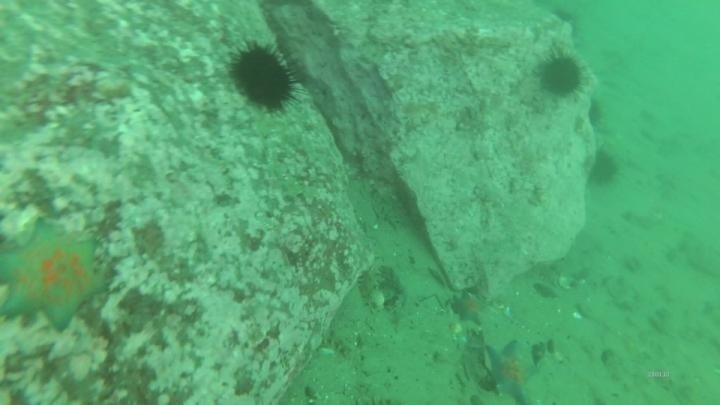echinus: (227, 41, 300, 114), (536, 51, 586, 99), (586, 147, 621, 188), (585, 97, 607, 130)
holothurian: (355, 260, 390, 314), (321, 325, 360, 361)
starfish: (1, 217, 109, 334), (482, 338, 541, 404), (449, 290, 490, 327)
